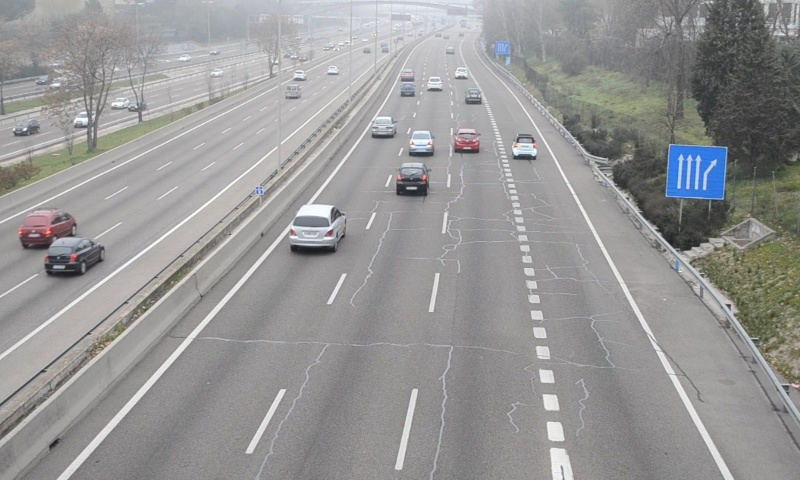car: (288, 204, 346, 249), (395, 162, 429, 196), (454, 128, 481, 154), (408, 130, 434, 156), (512, 133, 537, 160), (370, 116, 398, 138), (464, 88, 482, 105), (426, 75, 443, 92), (399, 82, 415, 98)
